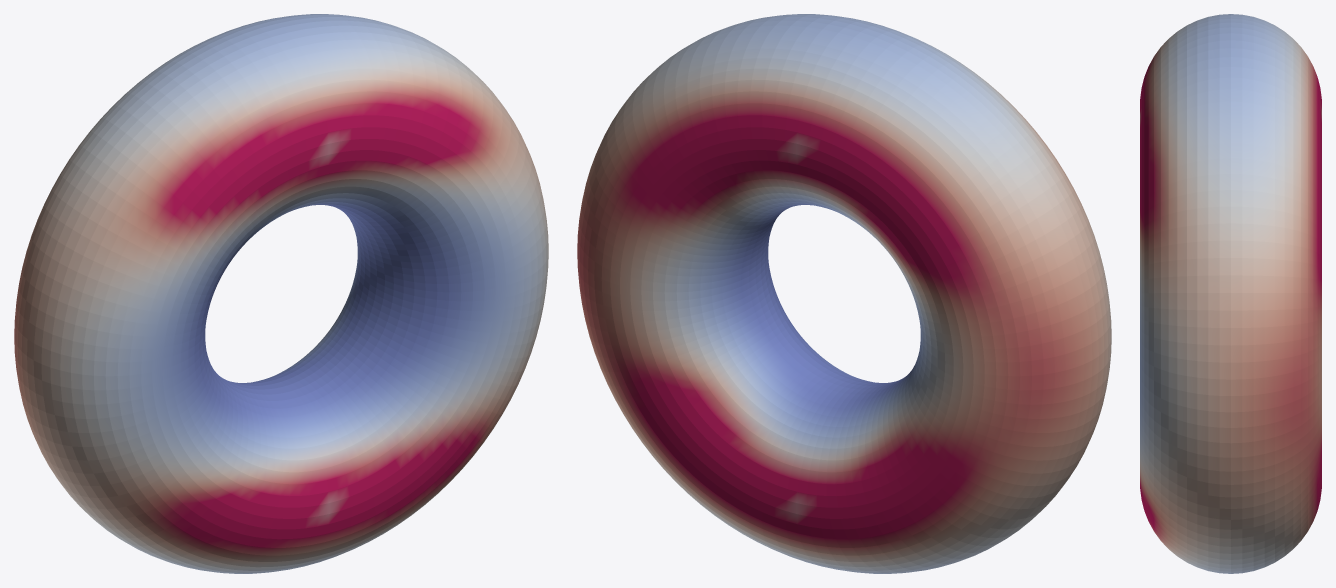
3 views of the same model, side by side, from view 1: azimuth 30°, elevation 25°; view 2: azimuth 150°, elevation 25°; view 3: azimuth 270°, elevation 25° (orthographic). The views are drawn at different scales.
Parts seen in each view (by area): view 1: world; view 2: world; view 3: world.
Part boxes in pixels (x1=…): world: x1=14, y1=14, x2=548, y2=573; world: x1=577, y1=14, x2=1111, y2=573; world: x1=1140, y1=14, x2=1321, y2=573.
Size of the model in its own units: 21.73 by 21.73 by 7.05.
